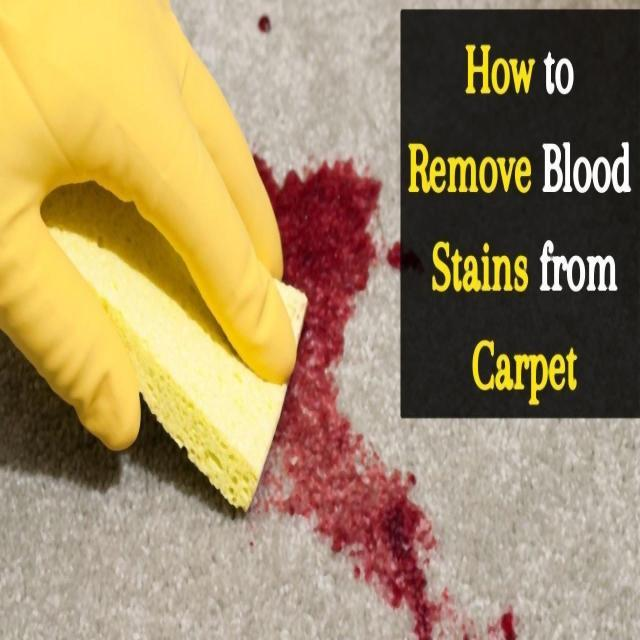flood: (254, 133, 421, 627)
